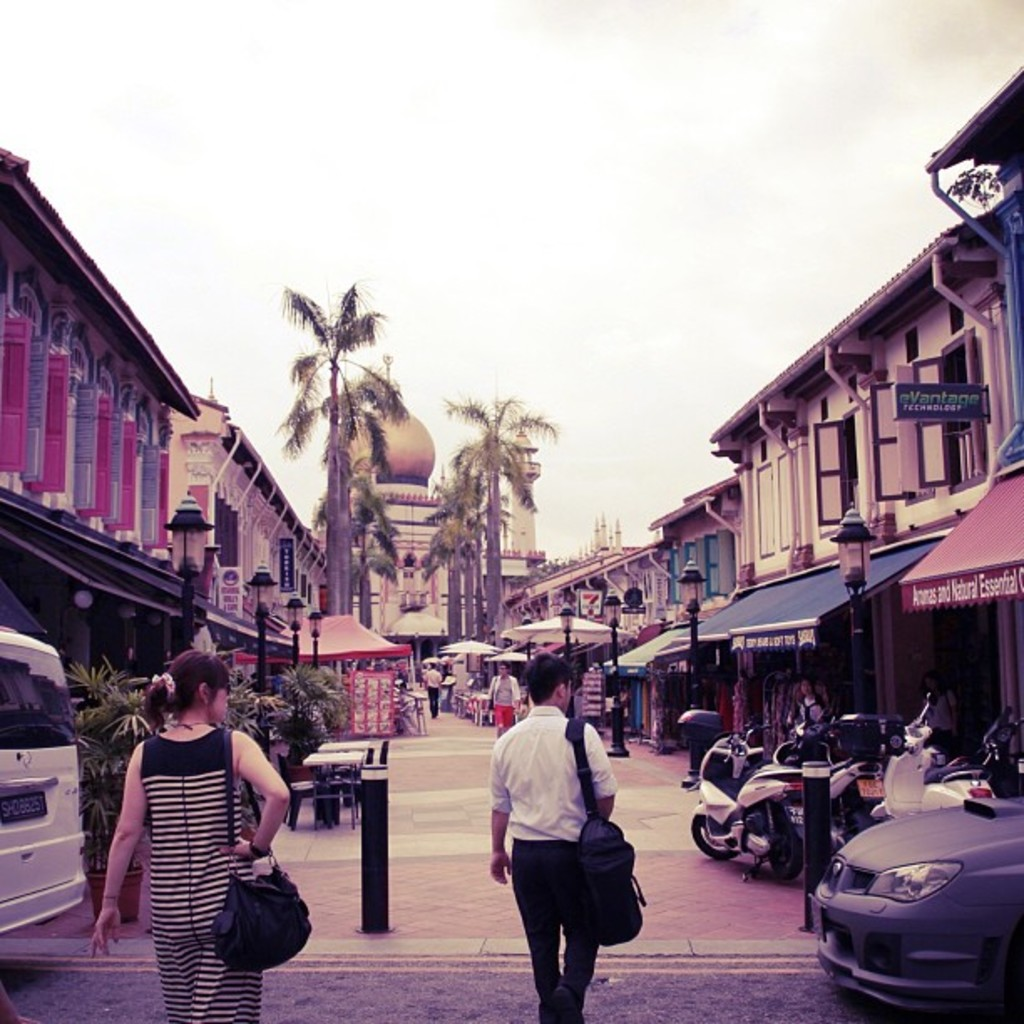Car: (816, 784, 1022, 1022), (0, 620, 92, 933)
